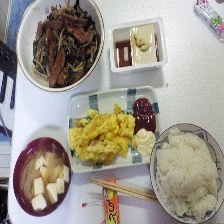rice: (153, 129, 224, 220)
